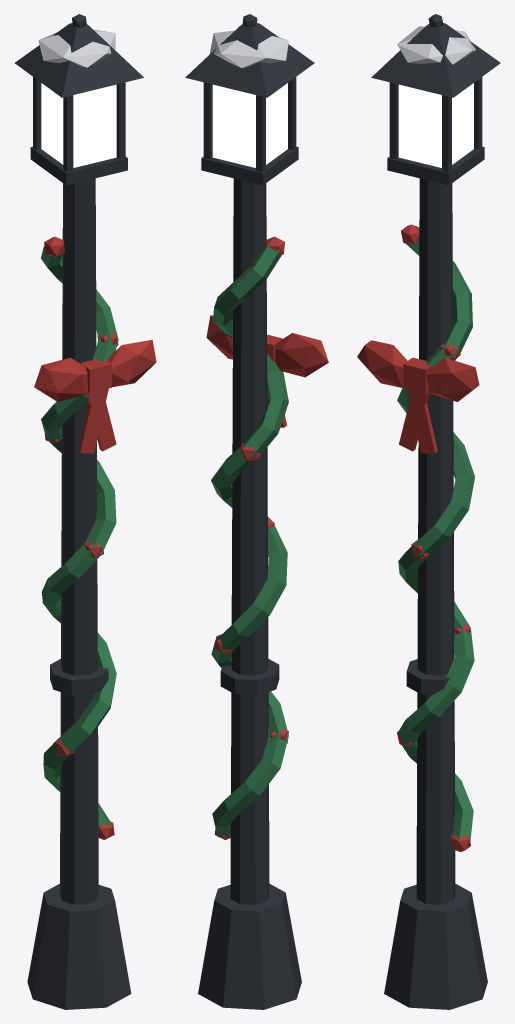
Rendered from ribbon-lamp.glb.
The picture shows the model from 3 angles, left to right: view 1: azimuth 30°, elevation 25°; view 2: azimuth 150°, elevation 25°; view 3: azimuth 330°, elevation 25°; orthographic projection.
Visible parts, largest first — view 1: ribbon-lamp; view 2: ribbon-lamp; view 3: ribbon-lamp.
Part boxes in pixels (left/top/right/bottom): ribbon-lamp: left=15, top=14, right=156, bottom=1009; ribbon-lamp: left=185, top=14, right=328, bottom=1009; ribbon-lamp: left=357, top=14, right=500, bottom=1009.
Size of the model in its own units: 0.409 by 3.2 by 0.32.
